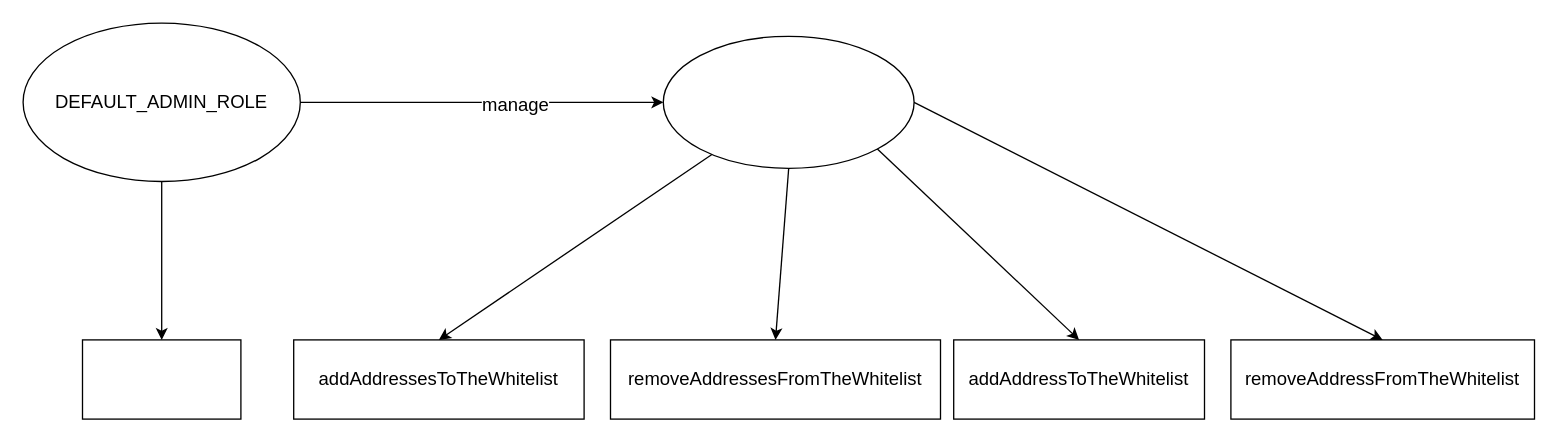
Image size: 1558x442. Some labels were removed from this diagram. The shapes that lost their labels are listed below. From the top down, each one's centre as x and y in pixels, then its label:
At (788,101): "WHITELIST_ROLE".
At (161,379): "kill".
